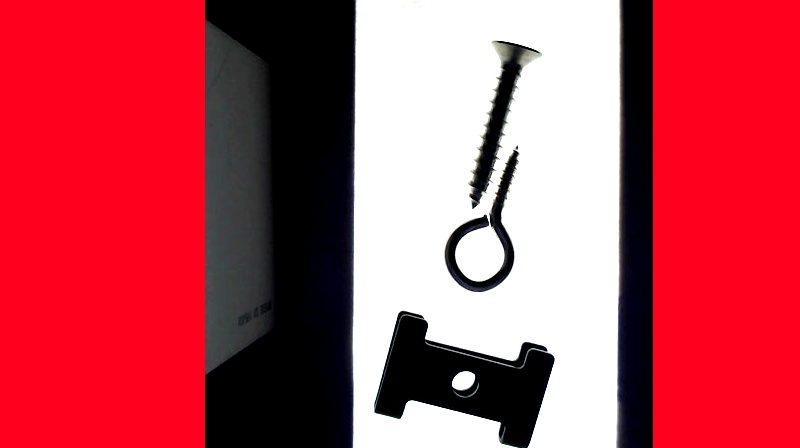O001: (442, 140, 520, 293)
O002: (374, 309, 555, 447)
S001: (469, 38, 542, 210)
